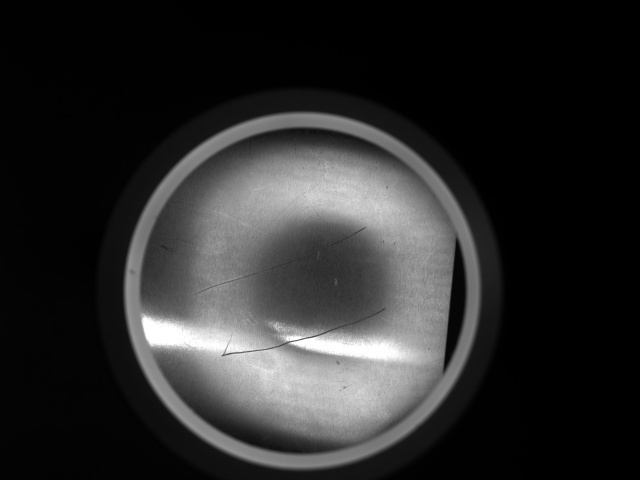ca_shang: (186, 223, 371, 298), (216, 304, 392, 359)
